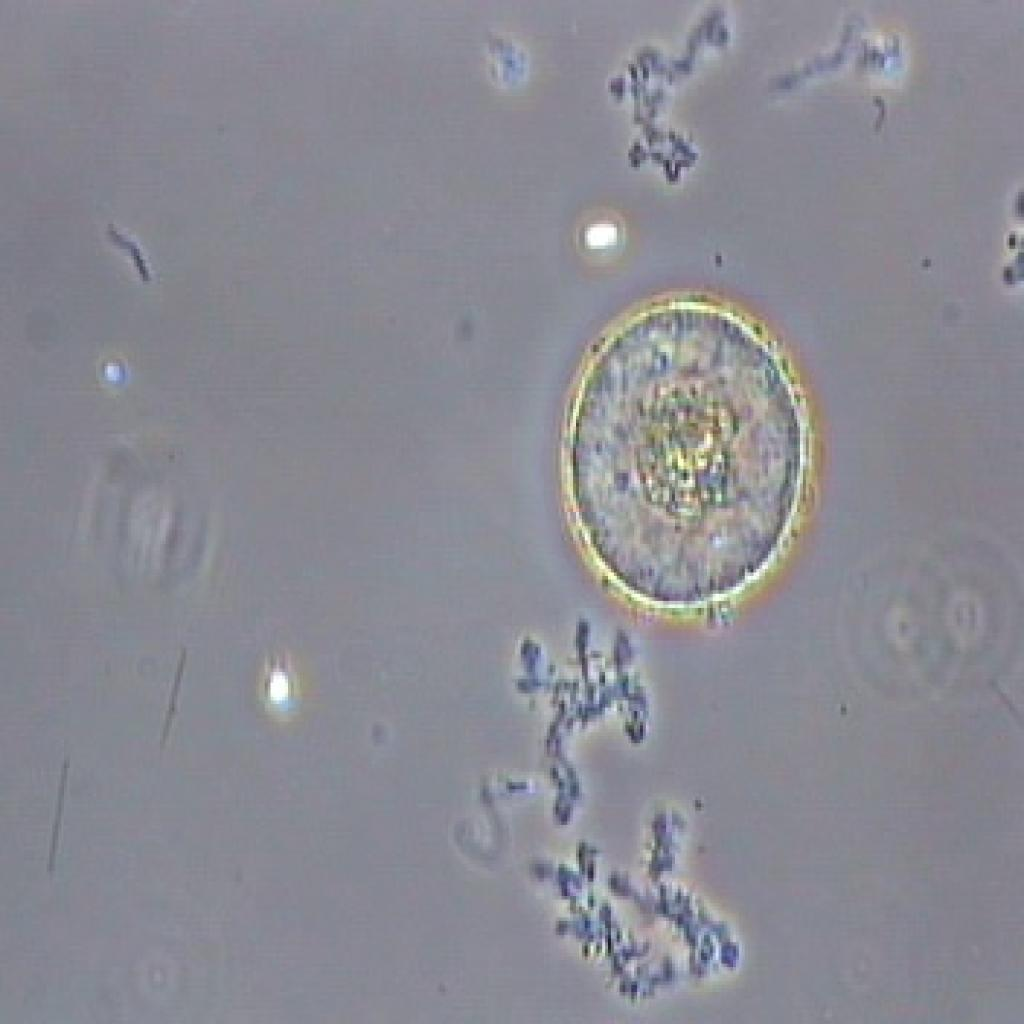Arcella: (540, 268, 842, 652)
